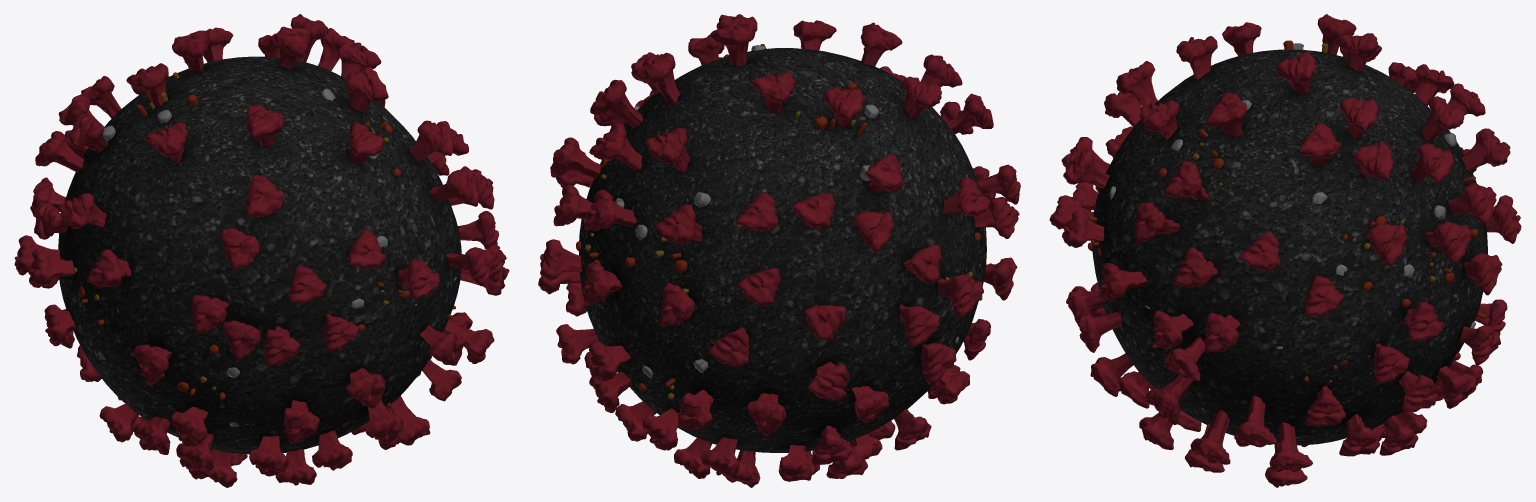
The model's file is covid-19.glb.
The picture shows the model from 3 angles, left to right: view 1: azimuth 30°, elevation 25°; view 2: azimuth 150°, elevation 25°; view 3: azimuth 270°, elevation 25°; orthographic projection. The views are drawn at different scales.
Visible parts, largest first — view 1: pSphere24_lambert2_0, pSphere24_lambert3_0, pSphere24_lambert4_0, pSphere24_lambert6_0; view 2: pSphere24_lambert2_0, pSphere24_lambert3_0, pSphere24_lambert6_0, pSphere24_lambert4_0; view 3: pSphere24_lambert2_0, pSphere24_lambert3_0, pSphere24_lambert4_0, pSphere24_lambert6_0.
Part boxes in pixels (box(x1,y1,x2,y2)): pSphere24_lambert2_0: box(58, 56, 461, 454); pSphere24_lambert3_0: box(14, 14, 509, 487); pSphere24_lambert4_0: box(78, 88, 455, 426); pSphere24_lambert6_0: box(98, 88, 456, 426); pSphere24_lambert2_0: box(579, 48, 986, 452); pSphere24_lambert3_0: box(538, 14, 1020, 487); pSphere24_lambert6_0: box(584, 45, 980, 378); pSphere24_lambert4_0: box(576, 44, 980, 391); pSphere24_lambert2_0: box(1092, 49, 1487, 445); pSphere24_lambert3_0: box(1049, 14, 1521, 487); pSphere24_lambert4_0: box(1087, 40, 1486, 389); pSphere24_lambert6_0: box(1092, 43, 1475, 349).
Bounding box in the file's own units: 1.37 × 1.33 × 1.36.
5 materials, 5 textured.
